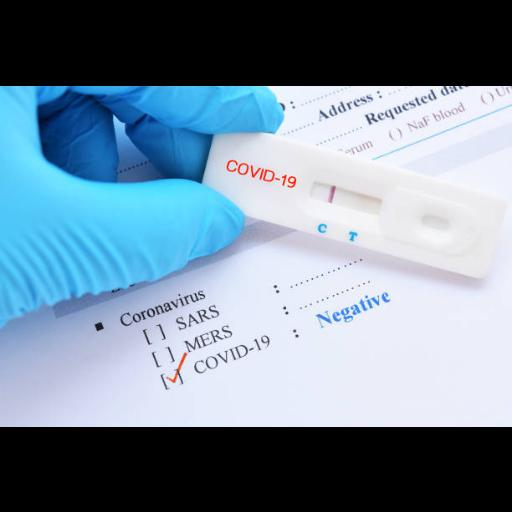Neg: (198, 121, 503, 280)
